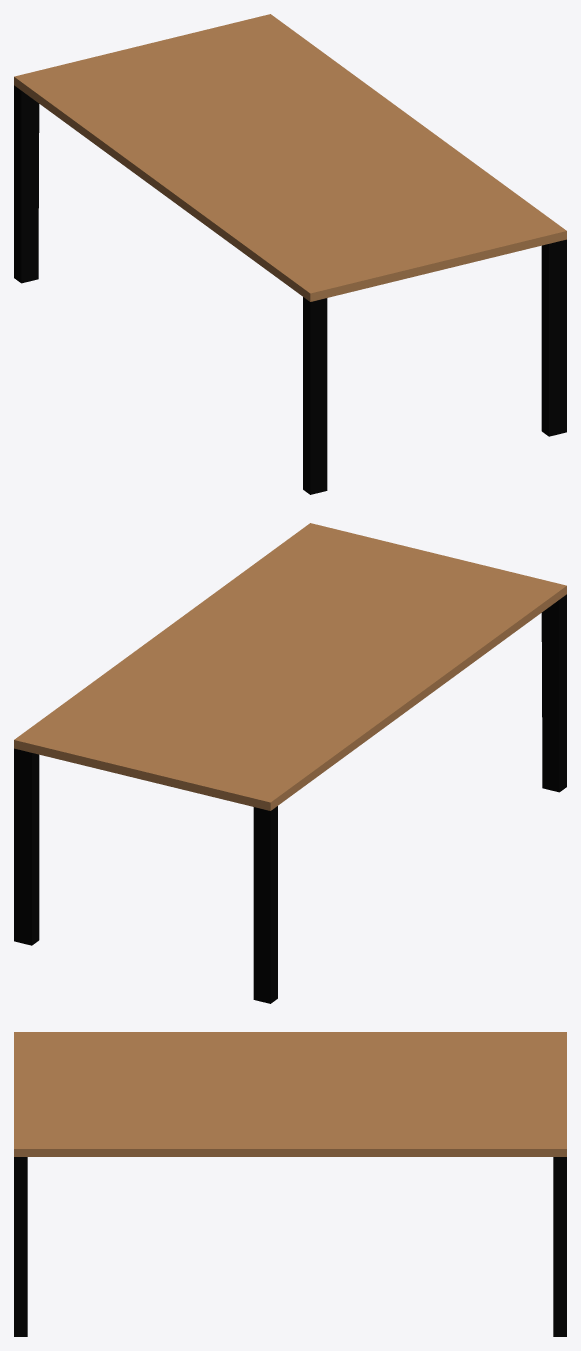
The model's file is Desk2m(1).fbx.
The picture shows the model from 3 angles, top to bottom: view 1: azimuth 30°, elevation 25°; view 2: azimuth 150°, elevation 25°; view 3: azimuth 270°, elevation 25°; orthographic projection. The views are drawn at different scales.
Parts seen in each view (by area): view 1: Desk2m; view 2: Desk2m; view 3: Desk2m.
Part boxes in pixels (bbox=[...]): Desk2m: bbox=[14, 14, 566, 494]; Desk2m: bbox=[14, 523, 566, 1003]; Desk2m: bbox=[14, 1032, 566, 1336].
Size of the model in its own units: 100 by 75 by 200.
